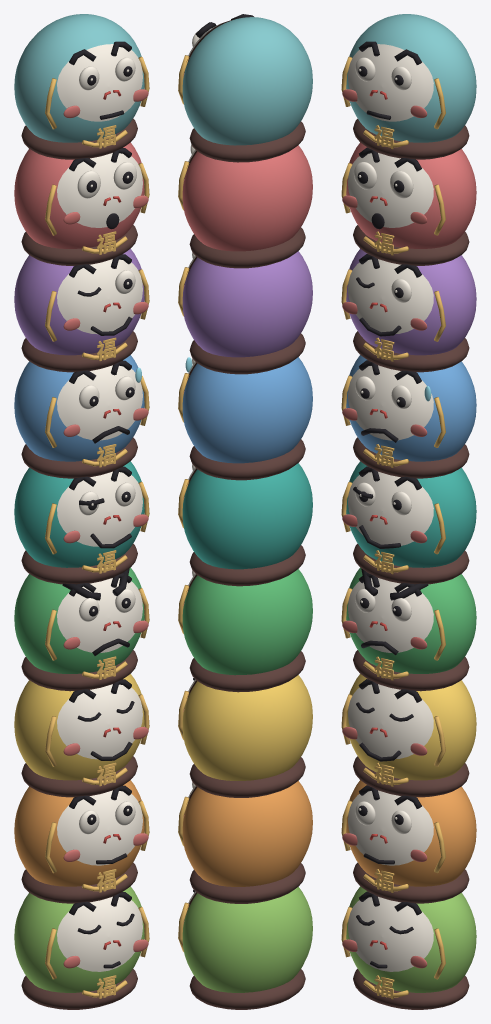
Rendered from daruma-tower-prototype.glb.
3 renders of one model, left to right at view 1: azimuth 30°, elevation 25°; view 2: azimuth 210°, elevation 25°; view 3: azimuth 330°, elevation 25°, orthographic.
Visible parts, largest first — view 1: TikiDaruma_Neutral_body, TikiDaruma_Sleepy_body, TikiDaruma_EyeRoll_body, TikiDaruma_Surprised_body, TikiDaruma_Sweat_body, TikiDaruma_Angry_body, TikiDaruma_Wink_body, TikiDaruma_Smile_body, TikiDaruma_Smirk_body, TikiDaruma_Sleepy_face, TikiDaruma_Smile_face, TikiDaruma_Wink_face (+27 smaller); view 2: TikiDaruma_Neutral_body, TikiDaruma_Smirk_body, TikiDaruma_Wink_body, TikiDaruma_Surprised_body, TikiDaruma_Angry_body, TikiDaruma_Sweat_body, TikiDaruma_EyeRoll_body, TikiDaruma_Smile_body, TikiDaruma_Sleepy_body, TikiDaruma_Sweat_base, TikiDaruma_Wink_base, TikiDaruma_Surprised_base (+6 smaller); view 3: TikiDaruma_Neutral_body, TikiDaruma_Sleepy_body, TikiDaruma_EyeRoll_body, TikiDaruma_Surprised_body, TikiDaruma_Sweat_body, TikiDaruma_Smirk_body, TikiDaruma_Wink_body, TikiDaruma_Angry_body, TikiDaruma_Smile_body, TikiDaruma_Sleepy_face, TikiDaruma_Smile_face, TikiDaruma_Wink_face (+29 smaller).
Part boxes in pixels (x1=…): TikiDaruma_Neutral_body: x1=14, y1=14, x2=144, y2=142; TikiDaruma_Sleepy_body: x1=14, y1=886, x2=144, y2=992; TikiDaruma_EyeRoll_body: x1=14, y1=780, x2=144, y2=886; TikiDaruma_Surprised_body: x1=14, y1=142, x2=144, y2=248; TikiDaruma_Sweat_body: x1=14, y1=355, x2=144, y2=461; TikiDaruma_Angry_body: x1=14, y1=567, x2=144, y2=673; TikiDaruma_Wink_body: x1=14, y1=249, x2=144, y2=355; TikiDaruma_Smile_body: x1=14, y1=674, x2=144, y2=780; TikiDaruma_Smirk_body: x1=14, y1=461, x2=144, y2=567; TikiDaruma_Sleepy_face: x1=57, y1=896, x2=142, y2=971; TikiDaruma_Smile_face: x1=57, y1=684, x2=142, y2=759; TikiDaruma_Wink_face: x1=57, y1=259, x2=142, y2=334; TikiDaruma_Neutral_body: x1=182, y1=17, x2=312, y2=145; TikiDaruma_Smirk_body: x1=182, y1=463, x2=312, y2=569; TikiDaruma_Wink_body: x1=182, y1=251, x2=312, y2=357; TikiDaruma_Surprised_body: x1=182, y1=145, x2=312, y2=251; TikiDaruma_Angry_body: x1=182, y1=569, x2=312, y2=675; TikiDaruma_Sweat_body: x1=182, y1=357, x2=312, y2=463; TikiDaruma_EyeRoll_body: x1=182, y1=781, x2=312, y2=886; TikiDaruma_Smile_body: x1=182, y1=675, x2=312, y2=780; TikiDaruma_Sleepy_body: x1=182, y1=887, x2=312, y2=992; TikiDaruma_Sweat_base: x1=189, y1=439, x2=305, y2=480; TikiDaruma_Wink_base: x1=189, y1=333, x2=305, y2=374; TikiDaruma_Surprised_base: x1=189, y1=227, x2=305, y2=268; TikiDaruma_Neutral_body: x1=346, y1=14, x2=476, y2=142; TikiDaruma_Sleepy_body: x1=346, y1=886, x2=476, y2=992; TikiDaruma_EyeRoll_body: x1=346, y1=780, x2=476, y2=886; TikiDaruma_Surprised_body: x1=346, y1=142, x2=476, y2=248; TikiDaruma_Sweat_body: x1=346, y1=355, x2=476, y2=461; TikiDaruma_Smirk_body: x1=346, y1=461, x2=476, y2=567; TikiDaruma_Wink_body: x1=346, y1=248, x2=476, y2=355; TikiDaruma_Angry_body: x1=346, y1=567, x2=476, y2=673; TikiDaruma_Smile_body: x1=346, y1=674, x2=476, y2=780; TikiDaruma_Sleepy_face: x1=348, y1=896, x2=433, y2=971; TikiDaruma_Smile_face: x1=348, y1=684, x2=433, y2=759; TikiDaruma_Wink_face: x1=348, y1=259, x2=433, y2=333.
Bounding box in the file's own units: 1.38 × 10.88 × 1.25.
